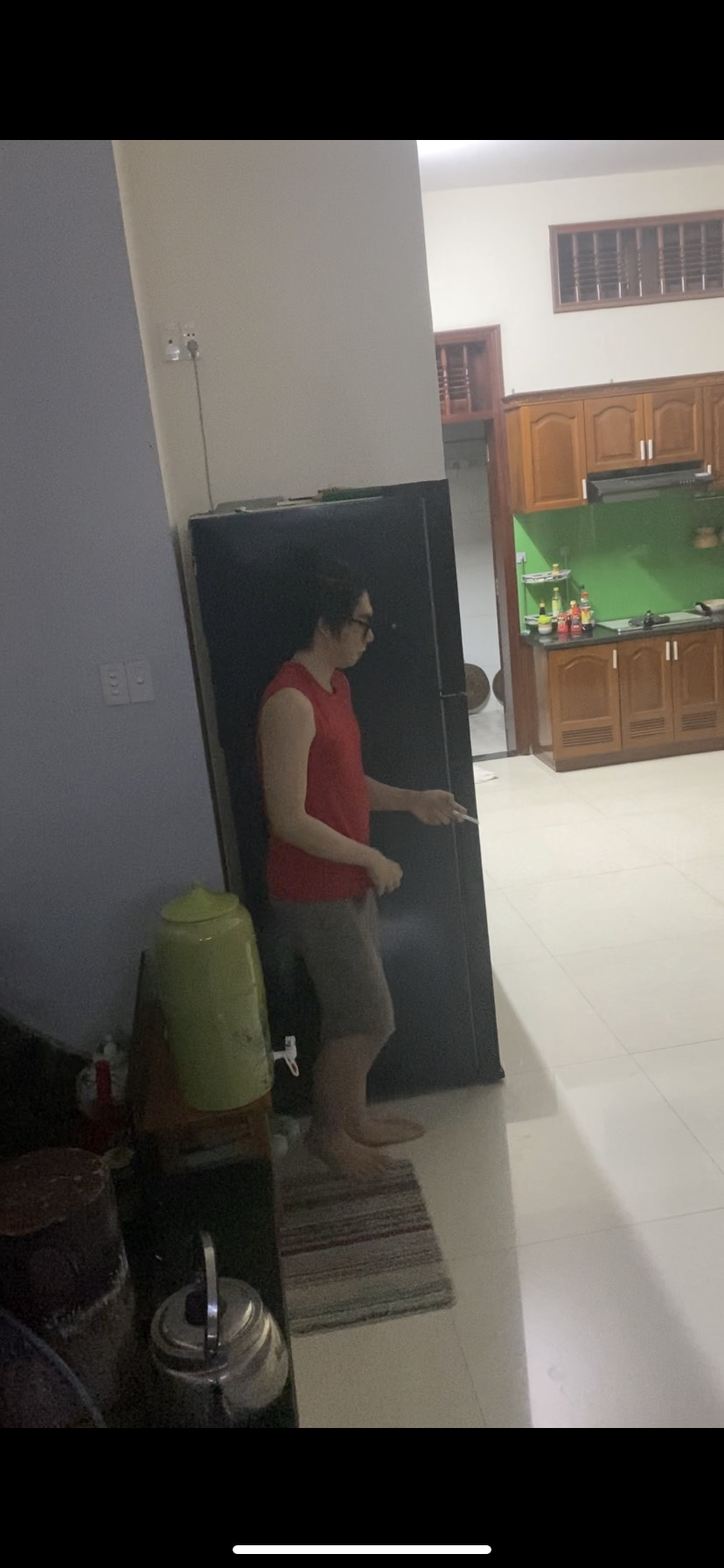cigarette: (461, 811, 478, 829)
person: (247, 502, 424, 1189)
